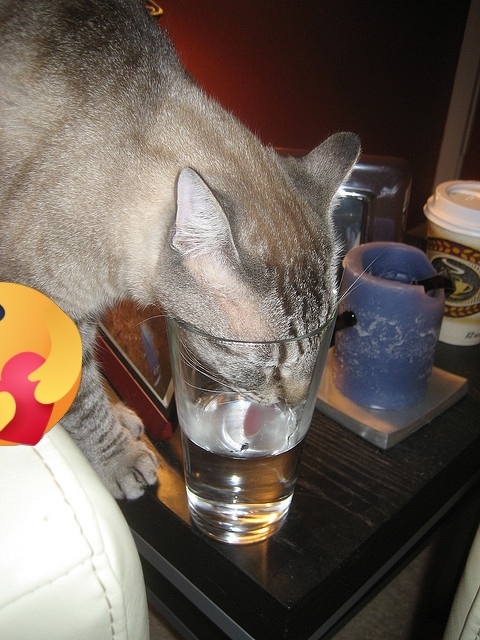care: (0, 282, 82, 446)
